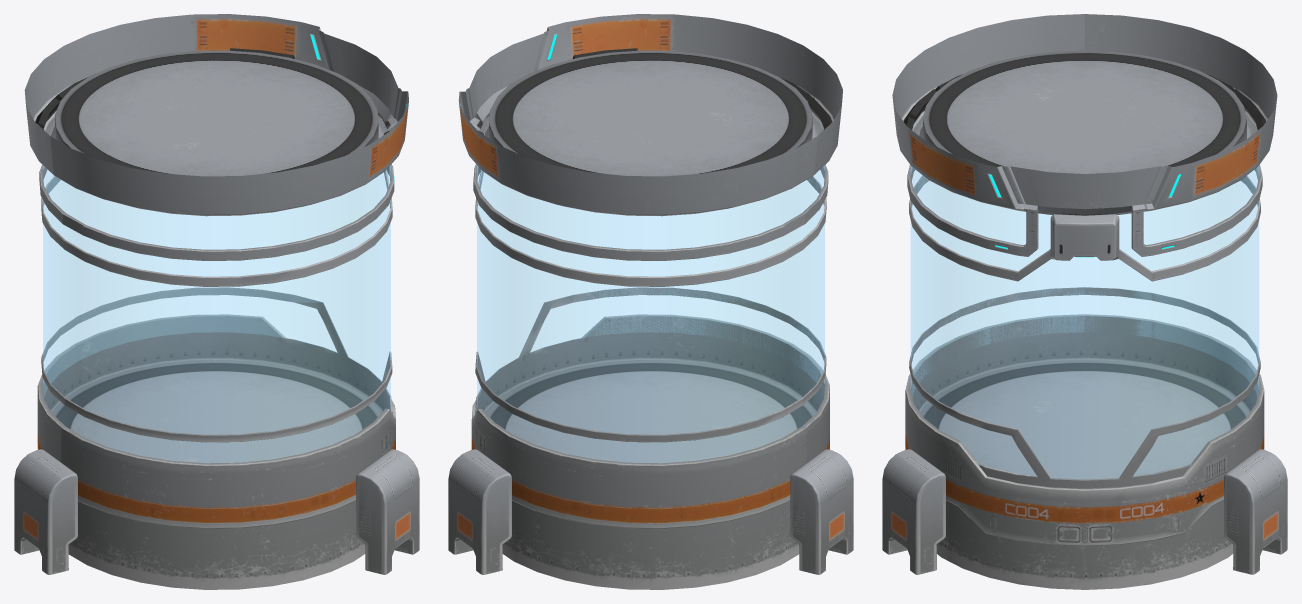
Rendered from large_sci-fi_vat.glb.
3 renders of one model, left to right at view 1: azimuth 30°, elevation 25°; view 2: azimuth 150°, elevation 25°; view 3: azimuth 270°, elevation 25°, orthographic.
Parts seen in each view (by area): view 1: SM_vat_large_caps_low, SM_vat_large_glass, vatlarge_buffer_low, vatlarge_buffer_low1, SM_vat_large_topdetail_low, SM_vat_large_toprail_low; view 2: SM_vat_large_caps_low, SM_vat_large_glass, vatlarge_buffer_low, vatlarge_buffer_low2, SM_vat_large_topdetail_low, SM_vat_large_toprail_low; view 3: SM_vat_large_caps_low, SM_vat_large_glass, SM_vat_large_toprail_low, vatlarge_buffer_low1, vatlarge_buffer_low2, SM_vat_large_topdetail_low.
Part boxes in pixels (x1,y1,x2,y2): SM_vat_large_caps_low: [24, 14, 408, 589]; SM_vat_large_glass: [43, 165, 390, 462]; vatlarge_buffer_low: [14, 449, 77, 574]; vatlarge_buffer_low1: [356, 449, 419, 574]; SM_vat_large_topdetail_low: [39, 120, 394, 260]; SM_vat_large_toprail_low: [41, 114, 392, 286]; SM_vat_large_caps_low: [458, 14, 842, 589]; SM_vat_large_glass: [477, 165, 824, 462]; vatlarge_buffer_low: [790, 449, 853, 574]; vatlarge_buffer_low2: [448, 449, 511, 574]; SM_vat_large_topdetail_low: [473, 120, 828, 260]; SM_vat_large_toprail_low: [475, 114, 826, 286]; SM_vat_large_caps_low: [892, 14, 1277, 589]; SM_vat_large_glass: [911, 166, 1258, 478]; SM_vat_large_toprail_low: [909, 175, 1260, 281]; vatlarge_buffer_low1: [882, 449, 945, 574]; vatlarge_buffer_low2: [1224, 449, 1287, 574]; SM_vat_large_topdetail_low: [907, 164, 1262, 256].
Bounding box in the file's own units: 11.5 × 13.35 × 11.62.
Materials: 5 (2 with a texture image).
